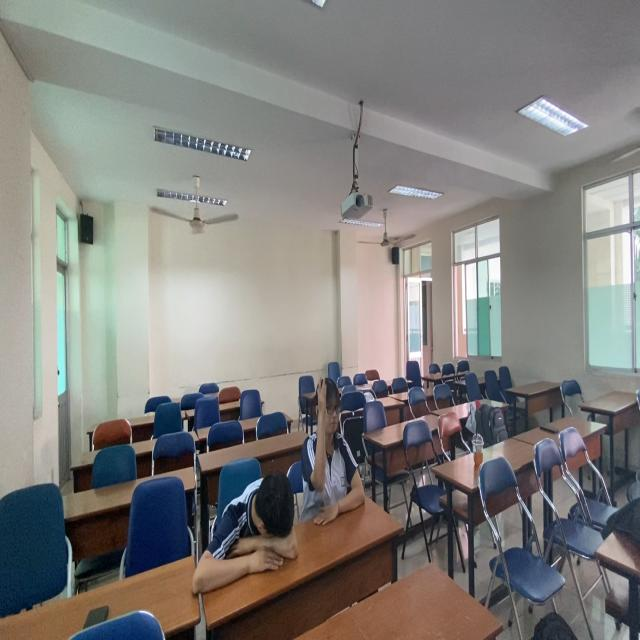raise_hand: (307, 373, 370, 518)
sleep: (193, 461, 300, 595)
